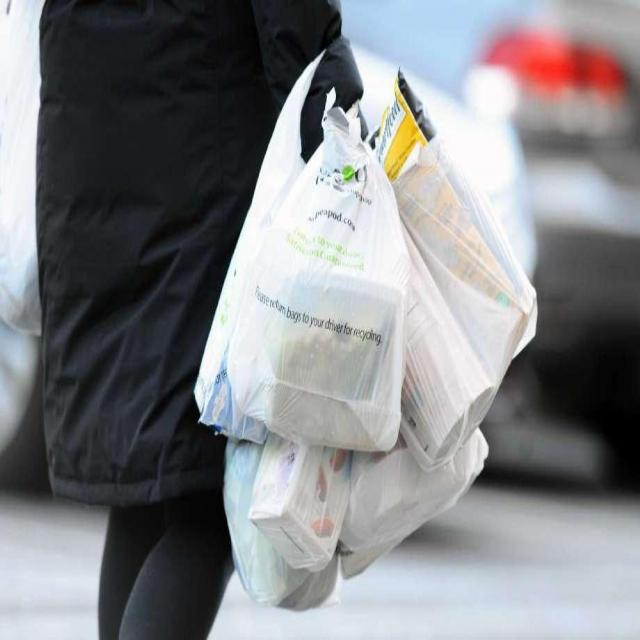plastic_bag: (212, 182, 511, 436), (240, 191, 359, 598), (277, 77, 410, 438), (385, 139, 516, 442), (346, 303, 483, 548)
